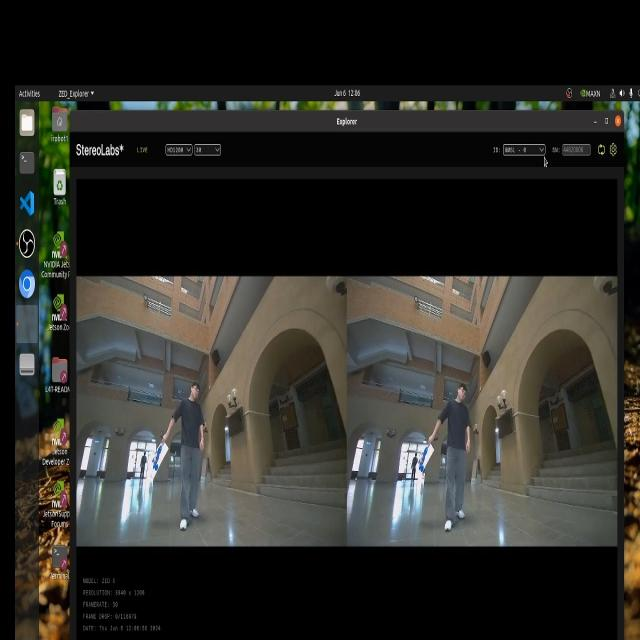blue: (144, 434, 166, 478), (416, 442, 432, 477)
